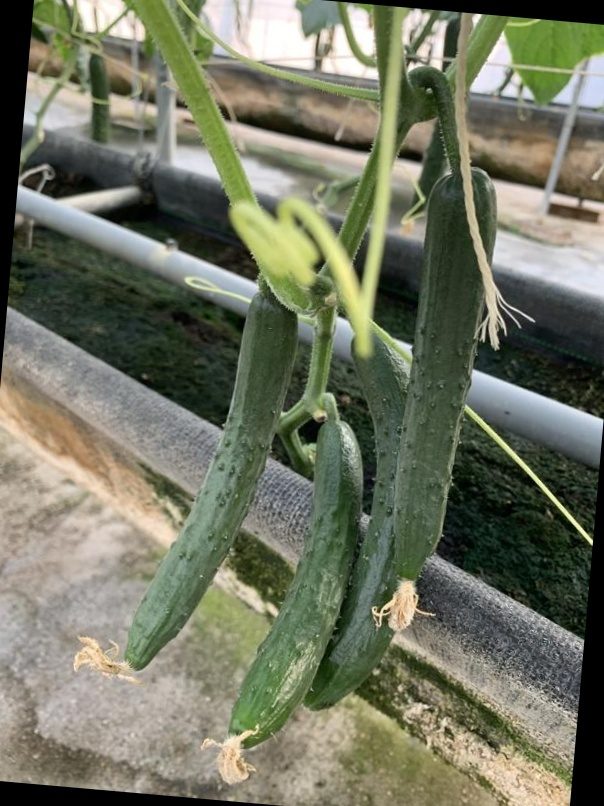mature: (119, 291, 299, 673), (226, 410, 362, 747), (306, 327, 418, 709), (396, 157, 492, 584)
